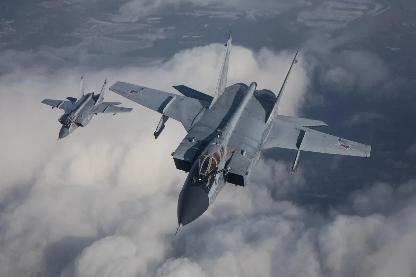Mig31: (108, 30, 371, 235), (41, 75, 133, 140)
